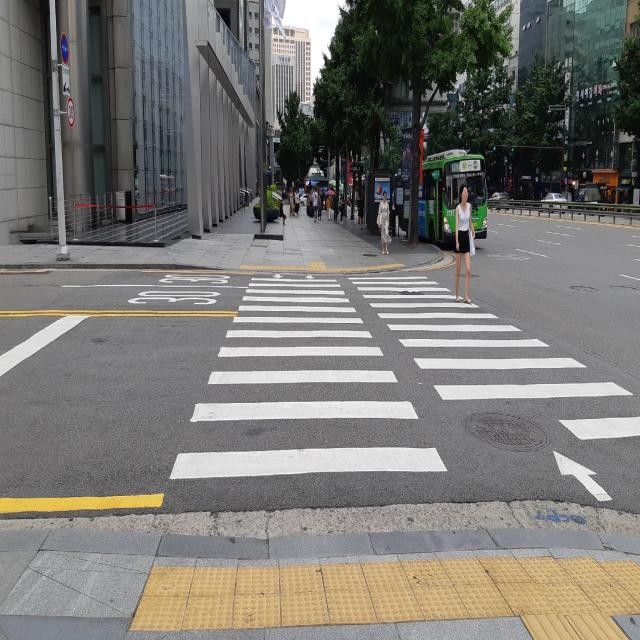횡단보도: (166, 266, 640, 510)
